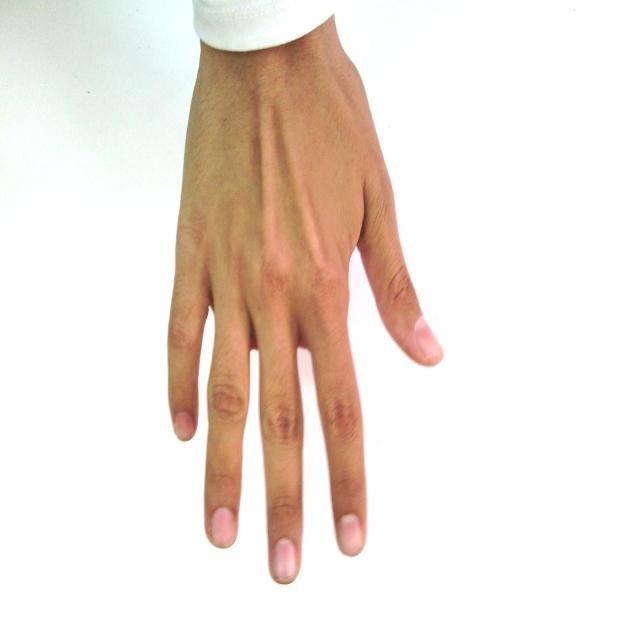Fingernail: (416, 317, 442, 359), (273, 539, 297, 582), (211, 508, 235, 547), (339, 515, 362, 555), (175, 412, 193, 439)
